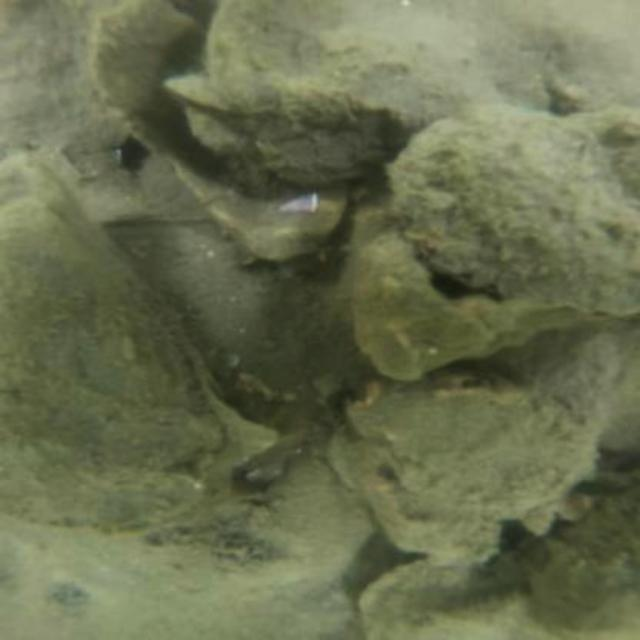Oyster-Closed: (2, 164, 218, 528), (85, 0, 348, 262), (196, 0, 568, 160), (388, 105, 635, 311), (356, 370, 607, 551), (150, 456, 363, 586)
Oyster-Open: (342, 220, 593, 389)
